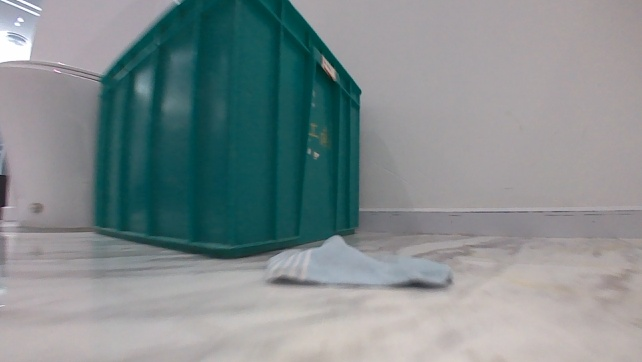socks: (263, 235, 456, 290)
toilet: (0, 58, 104, 230)
